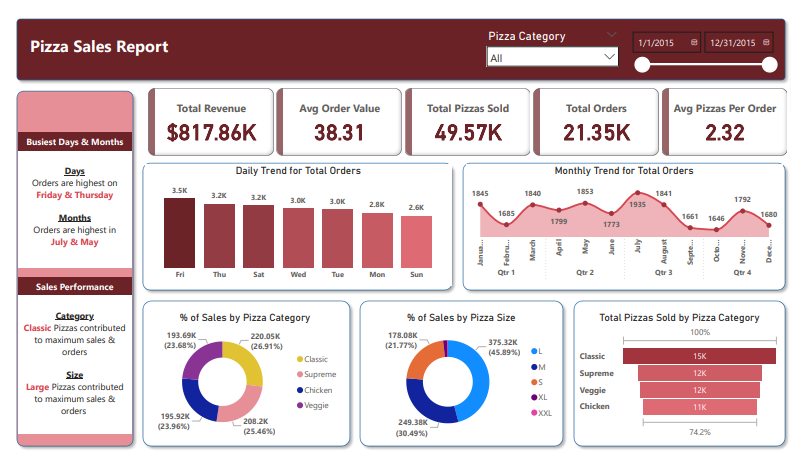

The page's visual inventory and layout, read from the dashboard file:
{"tool":"powerbi","page":{"name":"Home","canvas":[1280,720],"ordinal":0},"visuals":[{"type":"cardVisual","fields":{"Data":["pizza_sales.Total Revenue","pizza_sales.Avg Order Value","pizza_sales.Total Pizzas Sold","pizza_sales.Total Orders","pizza_sales.Avg Pizzas Per Order"]},"box":[219.7,118.2,1060.6,119.7],"z":0},{"type":"shape","box":[207.6,237.9,525.8,225.8],"z":1000},{"type":"clusteredColumnChart","title":"Daily Trend for Total Orders","fields":{"Category":["pizza_sales.Order Day"],"Y":["pizza_sales.Total Orders"]},"box":[219.7,248.5,503,200],"z":2000},{"type":"shape","box":[733.3,237.9,547,225.8],"z":3000},{"type":"areaChart","title":"Monthly Trend for Total Orders","fields":{"Category":["pizza_sales.order_date.Variation.Date Hierarchy.Quarter","pizza_sales.order_date.Variation.Date Hierarchy.Month","pizza_sales.order_date.Variation.Date Hierarchy.Day"],"Y":["pizza_sales.Total Orders"]},"box":[747,248.5,519.7,200],"z":4000},{"type":"shape","box":[207.6,463.6,356.1,256.1],"z":5000},{"type":"shape","box":[563.6,463.6,351.5,256.1],"z":6000},{"type":"shape","box":[915.2,463.6,365.2,256.1],"z":7000},{"type":"donutChart","title":"% of Sales by Pizza Category","fields":{"Category":["pizza_sales.pizza_category"],"Y":["pizza_sales.Total Revenue"]},"box":[219.7,489.4,328.8,213.6],"z":8000},{"type":"donutChart","title":"% of Sales by Pizza Size","fields":{"Y":["pizza_sales.Total Revenue"],"Category":["pizza_sales.pizza_size"]},"box":[575.8,489.4,327.3,213.6],"z":9000},{"type":"funnel","title":"Total Pizzas Sold by Pizza Category","fields":{"Category":["pizza_sales.pizza_category"],"Y":["pizza_sales.Total Pizzas Sold"]},"box":[928.8,489.4,337.9,212.1],"z":10000},{"type":"shape","box":[0,118.2,207.6,601.5],"z":11000},{"type":"textbox","box":[10.6,195.5,186.4,30.3],"z":12000},{"type":"textbox","box":[10.6,225.8,186.4,190.9],"z":13000},{"type":"textbox","box":[10.6,433.3,186.4,30.3],"z":14000},{"type":"textbox","box":[10.6,463.6,186.4,227.3],"z":15000},{"type":"shape","box":[0,0,1280.3,118.2],"z":16000},{"type":"textbox","box":[10.6,28.8,266.7,59.1],"z":17000},{"type":"slicer","fields":{"Values":["pizza_sales.pizza_category"]},"box":[771.2,19.7,236.4,78.8],"z":18000},{"type":"slicer","fields":{"Values":["pizza_sales.order_date"]},"box":[1007.6,19.7,259.1,78.8],"z":19000}]}

Visuals, with their boxes in screenshot pixels (x1, y1, x2, y2), scaled from the page's 1280x720 canvas onto the 801x463 screenshot:
cardVisual - pizza_sales.Total Revenue x pizza_sales.Avg Order Value: box(137, 76, 800, 153)
shape: box(130, 153, 459, 298)
"Daily Trend for Total Orders" clusteredColumnChart: box(137, 160, 452, 288)
shape: box(459, 153, 800, 298)
"Monthly Trend for Total Orders" areaChart: box(467, 160, 793, 288)
shape: box(130, 298, 353, 462)
shape: box(353, 298, 573, 462)
shape: box(573, 298, 800, 462)
"% of Sales by Pizza Category" donutChart: box(137, 315, 343, 452)
"% of Sales by Pizza Size" donutChart: box(360, 315, 565, 452)
"Total Pizzas Sold by Pizza Category" funnel: box(581, 315, 793, 451)
shape: box(0, 76, 130, 462)
textbox: box(7, 126, 123, 145)
textbox: box(7, 145, 123, 268)
textbox: box(7, 279, 123, 298)
textbox: box(7, 298, 123, 444)
shape: box(0, 0, 800, 76)
textbox: box(7, 19, 174, 57)
slicer - pizza_sales.pizza_category: box(483, 13, 631, 63)
slicer - pizza_sales.order_date: box(631, 13, 793, 63)
